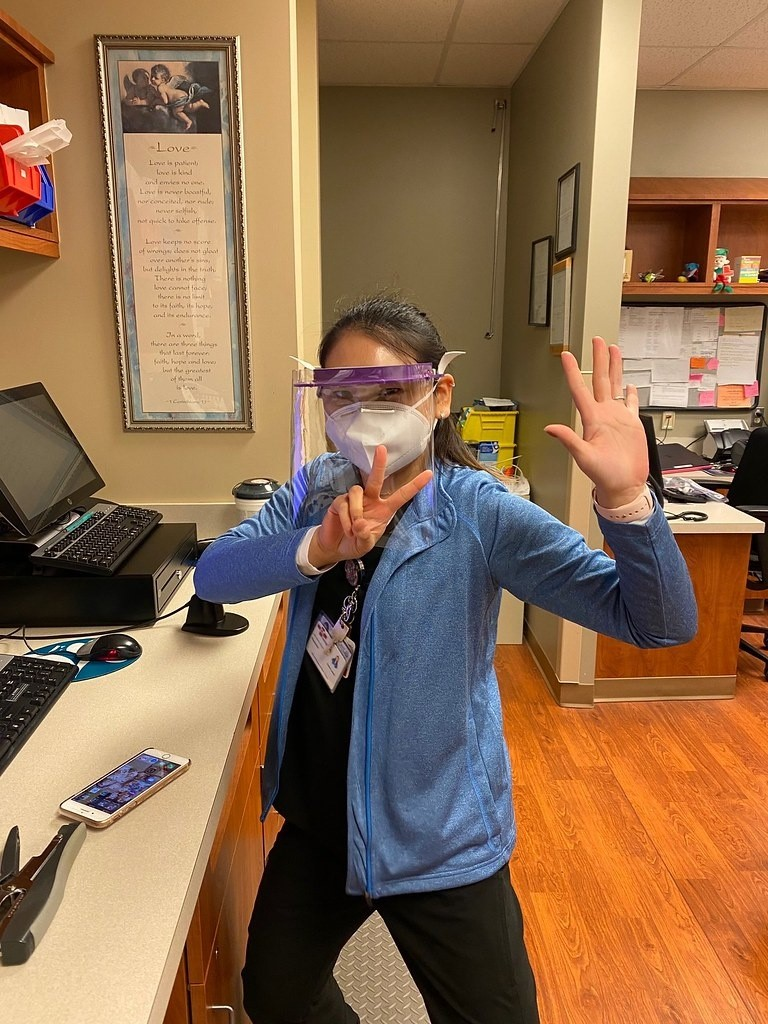face_with_mask: (315, 301, 453, 487)
